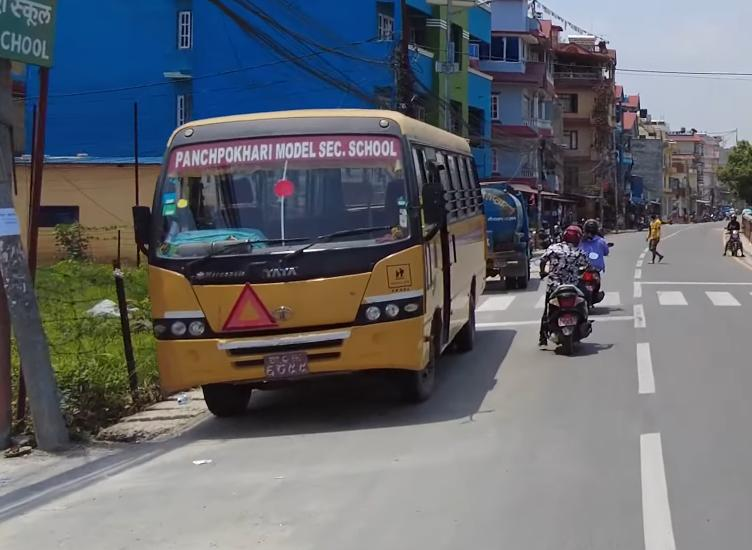mini_truck: (482, 181, 535, 294)
school_bus: (135, 105, 495, 425)
scooter: (540, 275, 597, 355)
